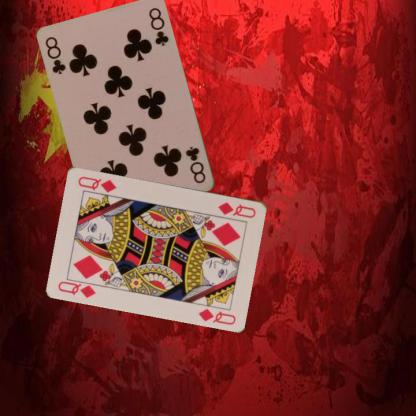8c: (42, 34, 68, 76), (182, 144, 208, 185)
Qd: (56, 276, 102, 298), (216, 199, 257, 219)
